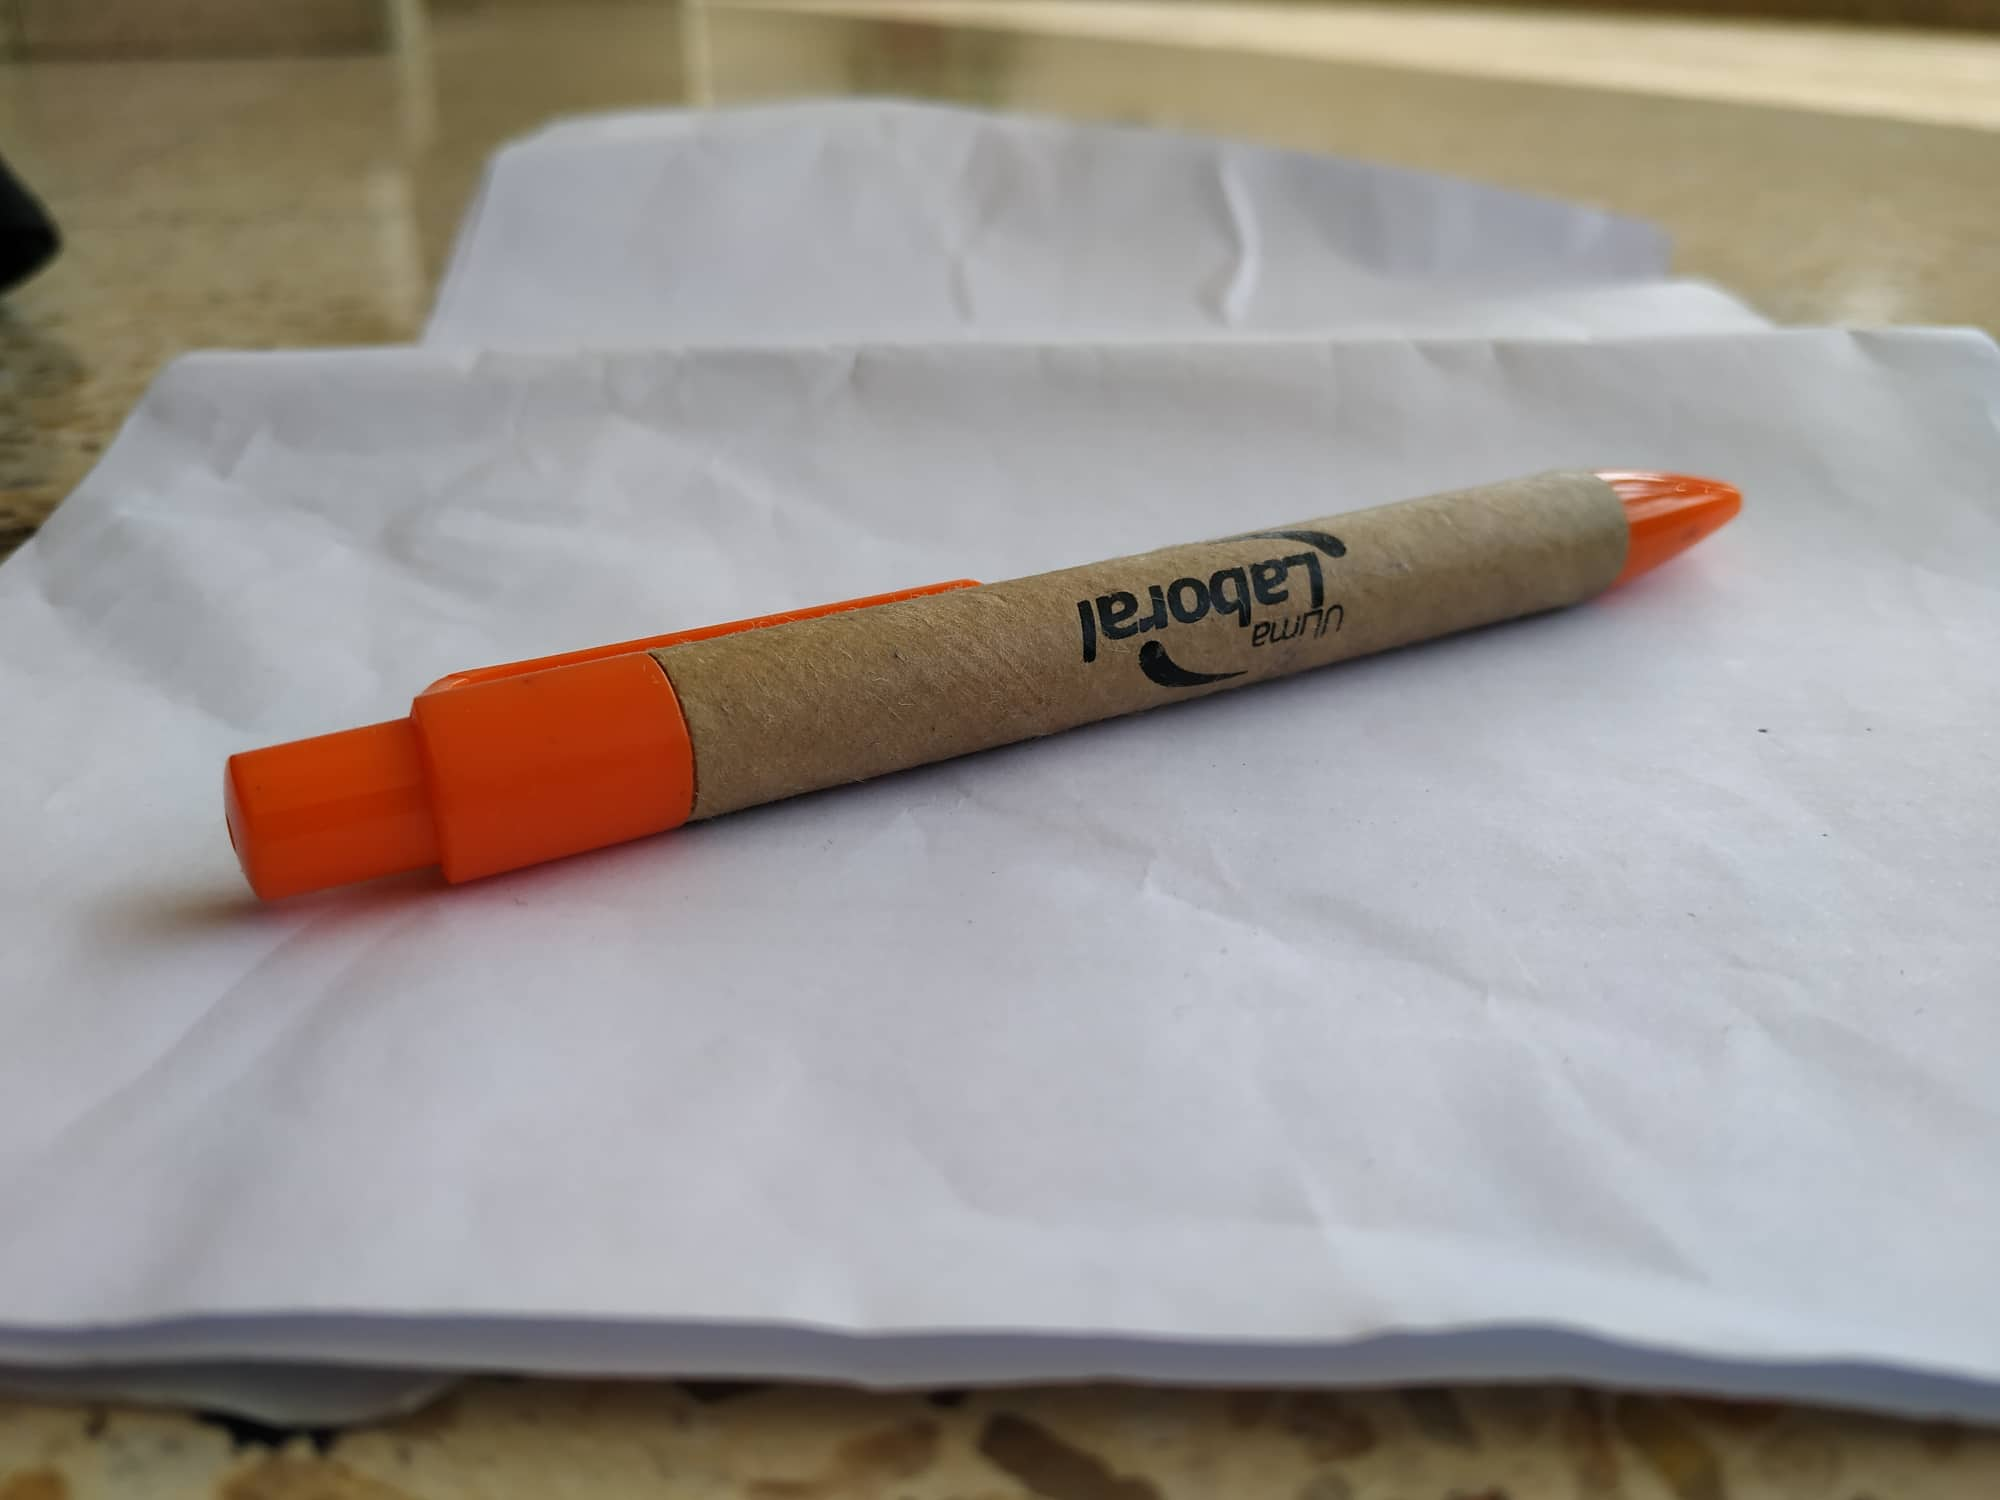qillqana: (187, 403, 1783, 941)
